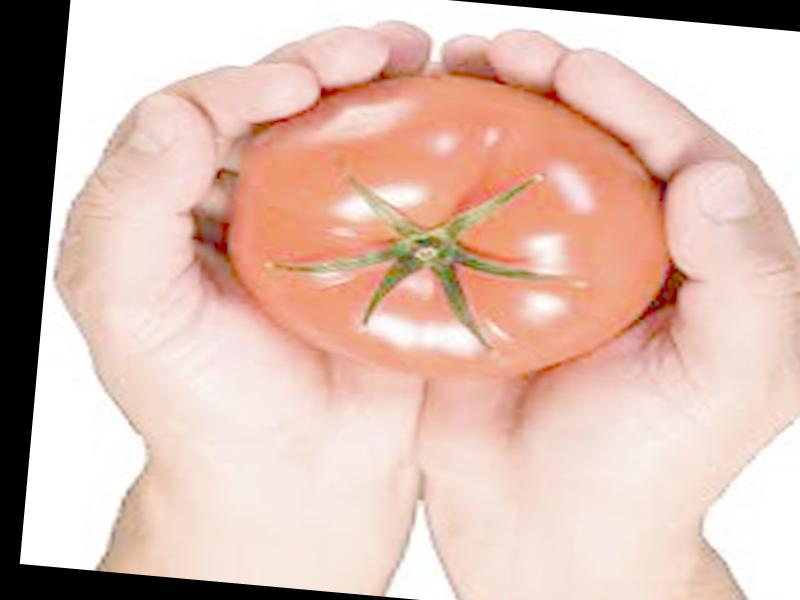Tomato: (215, 61, 684, 393)
